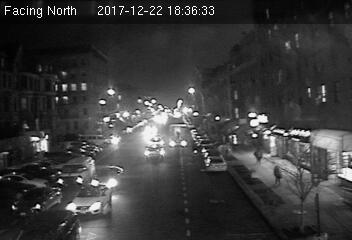car: (10, 185, 63, 215), (68, 181, 112, 217), (89, 165, 126, 188), (204, 156, 227, 172), (143, 145, 166, 159), (147, 136, 165, 146)
truck: (55, 156, 97, 188)
